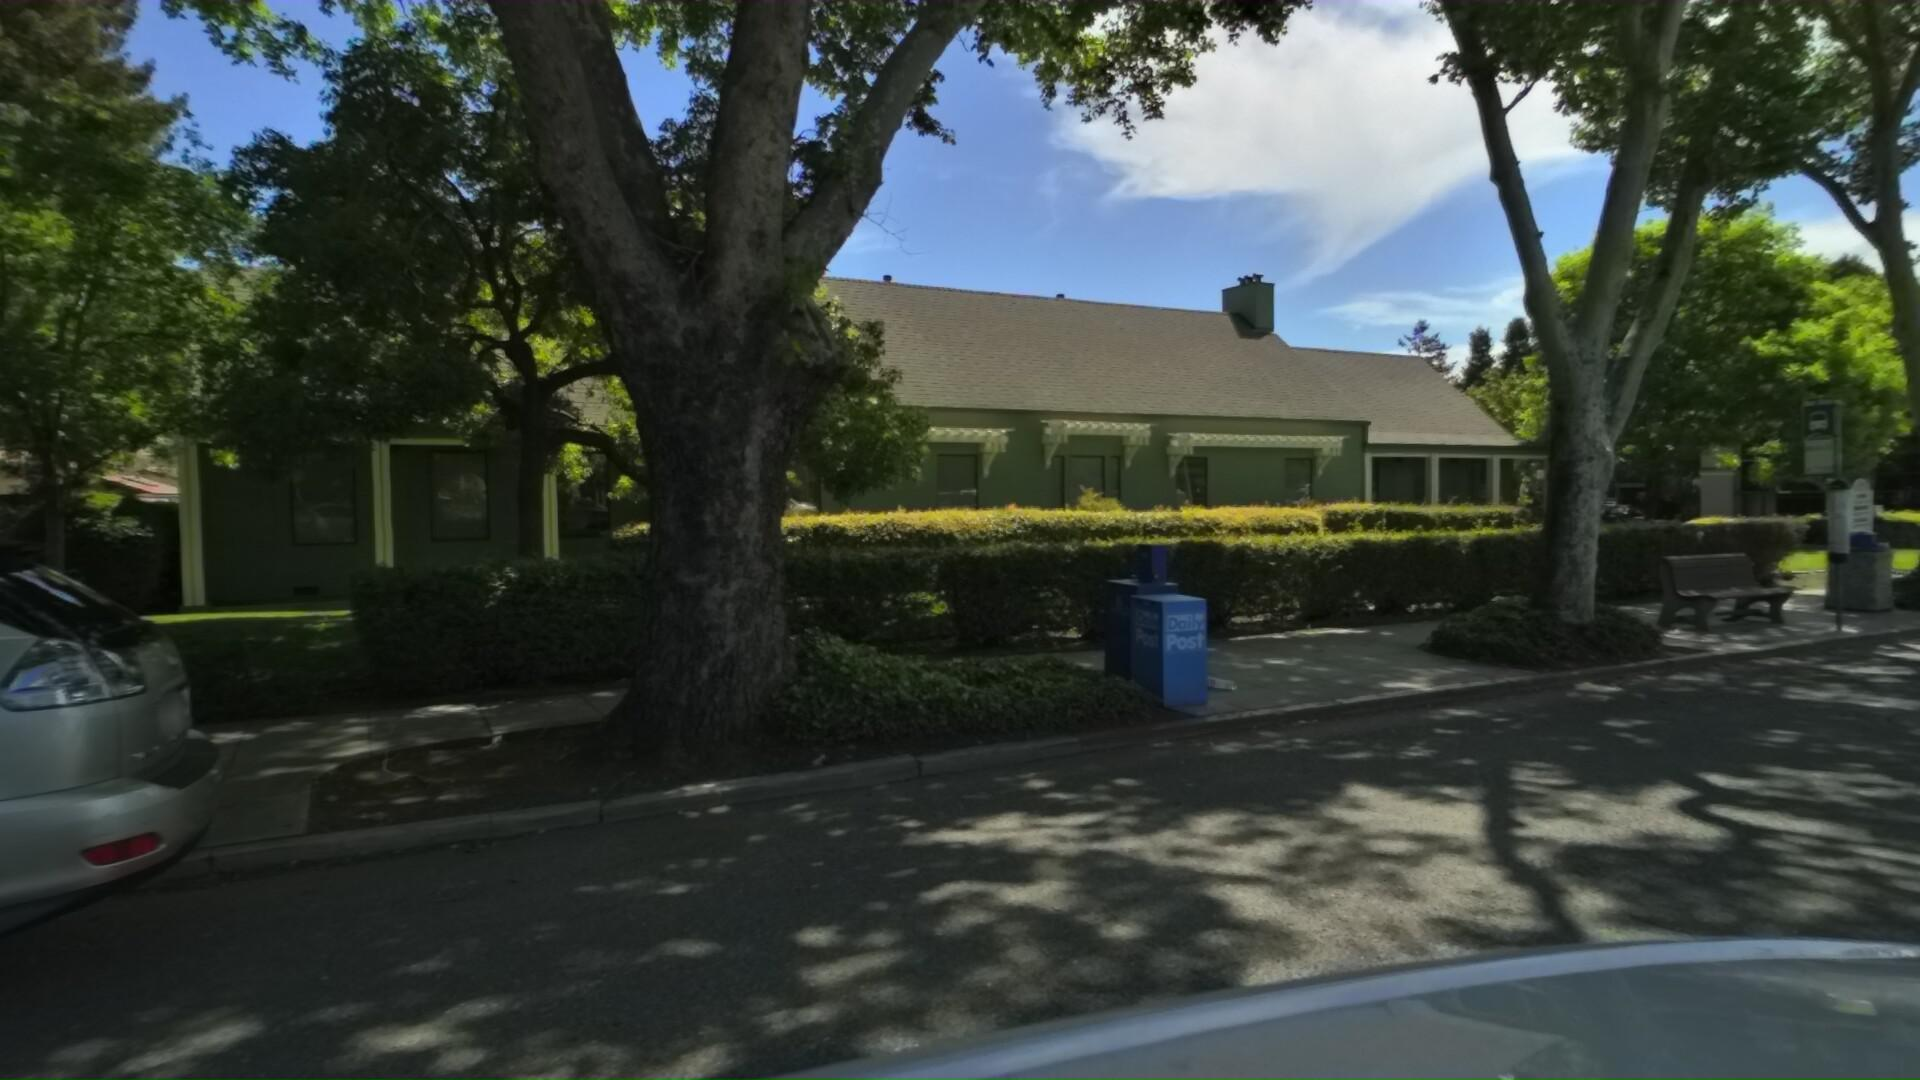car: (0, 487, 382, 1080), (1621, 488, 1677, 517), (1592, 495, 1651, 522)
